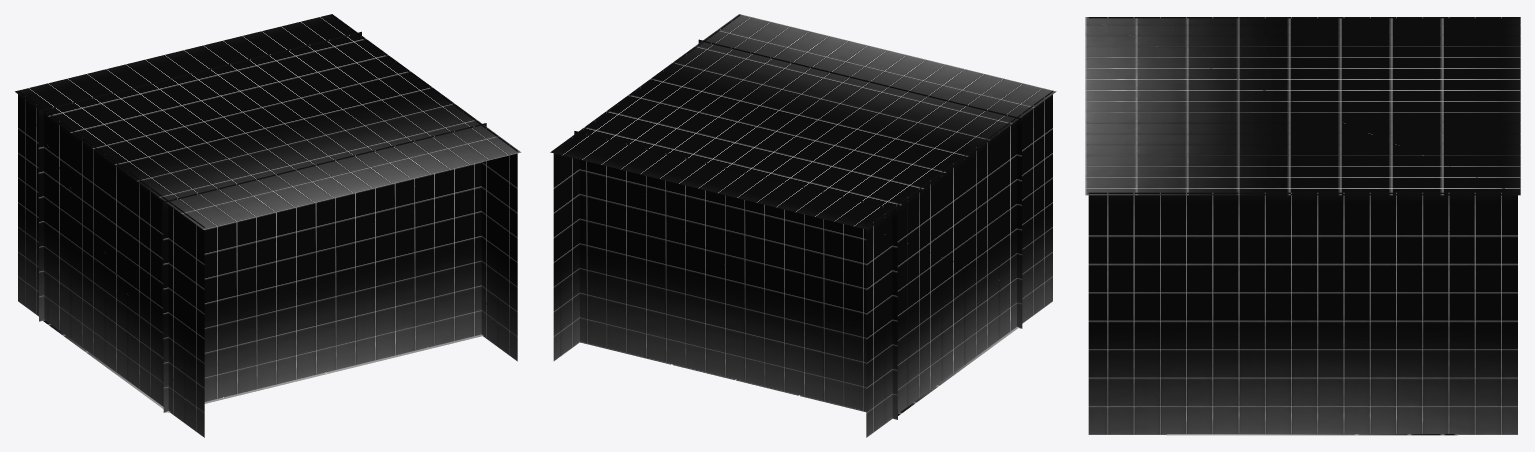
Rendered from Stage0_3D.glb.
3 views of the same model, side by side, from view 1: azimuth 30°, elevation 25°; view 2: azimuth 150°, elevation 25°; view 3: azimuth 270°, elevation 25° (orthographic). The views are drawn at different scales.
Visible parts, largest first — view 1: Plane.001, Plane; view 2: Plane.001, Plane; view 3: Plane.001, Plane.
Part boxes in pixels (x1,y1,x2,y2): Plane.001: (15,14,521,437); Plane: (42,319,483,412); Plane.001: (550,14,1056,437); Plane: (582,326,1019,418); Plane.001: (1085,17,1520,434); Plane: (1166,434,1457,435).
Size of the model in its own units: 39.08 by 24.36 by 39.61.
3 materials, 2 textured.
